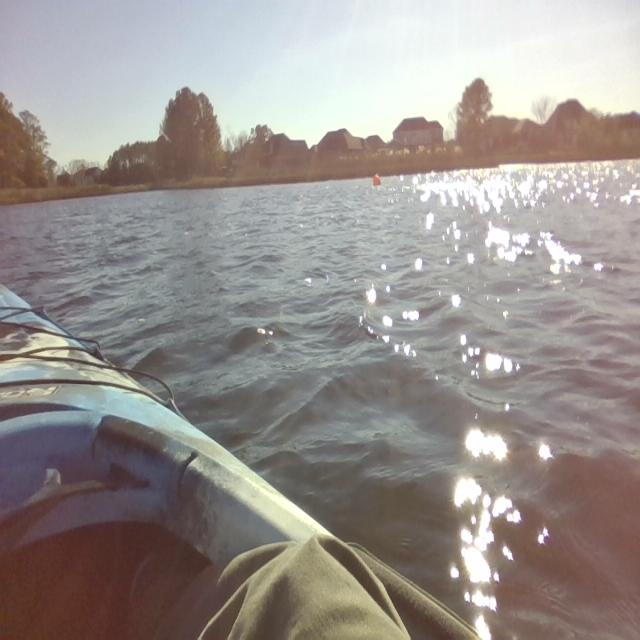Buoy: (370, 172, 382, 194)
